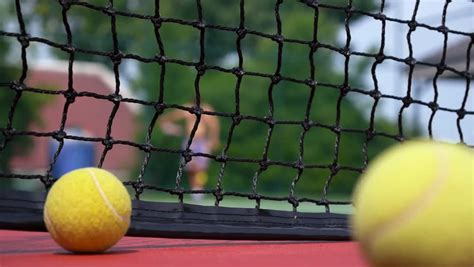tennis_ball: (351, 140, 473, 267), (42, 167, 132, 253)
